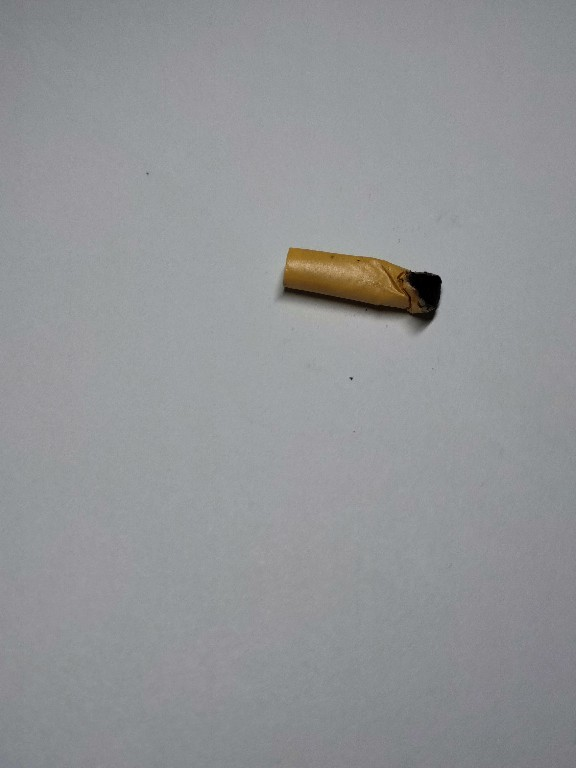cigarette: (278, 240, 447, 325)
